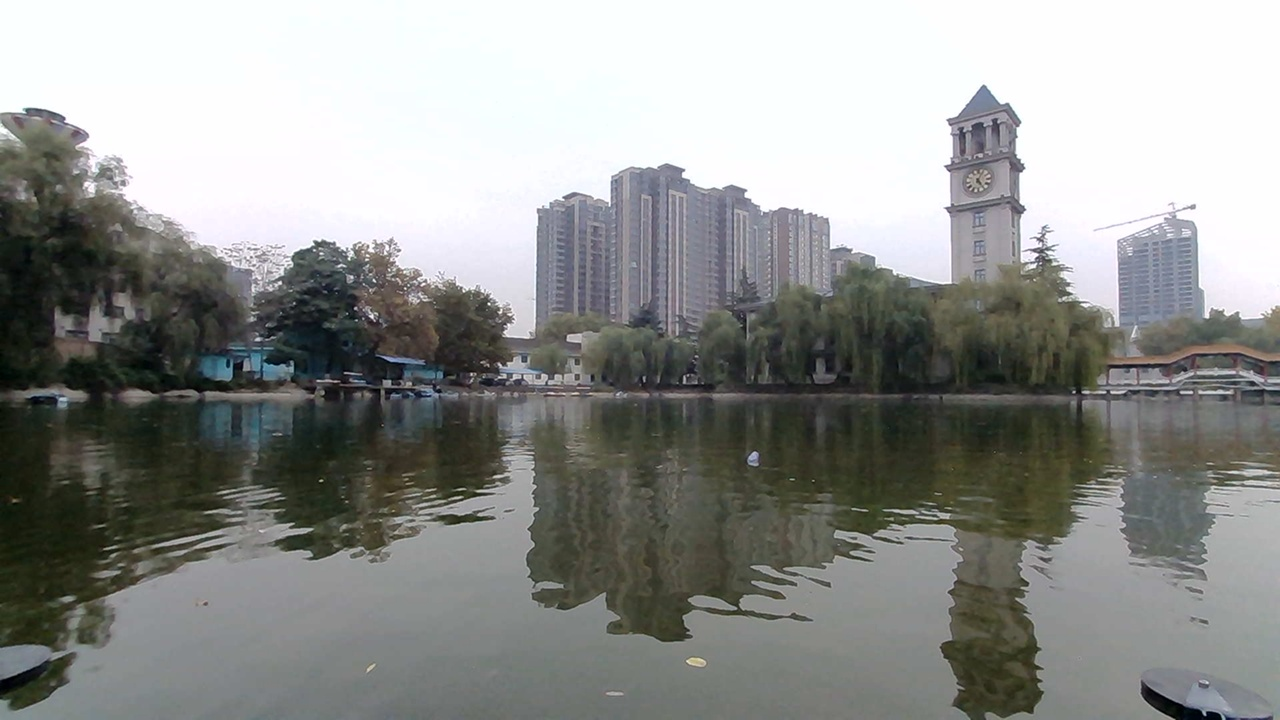bottle: (731, 440, 780, 472)
